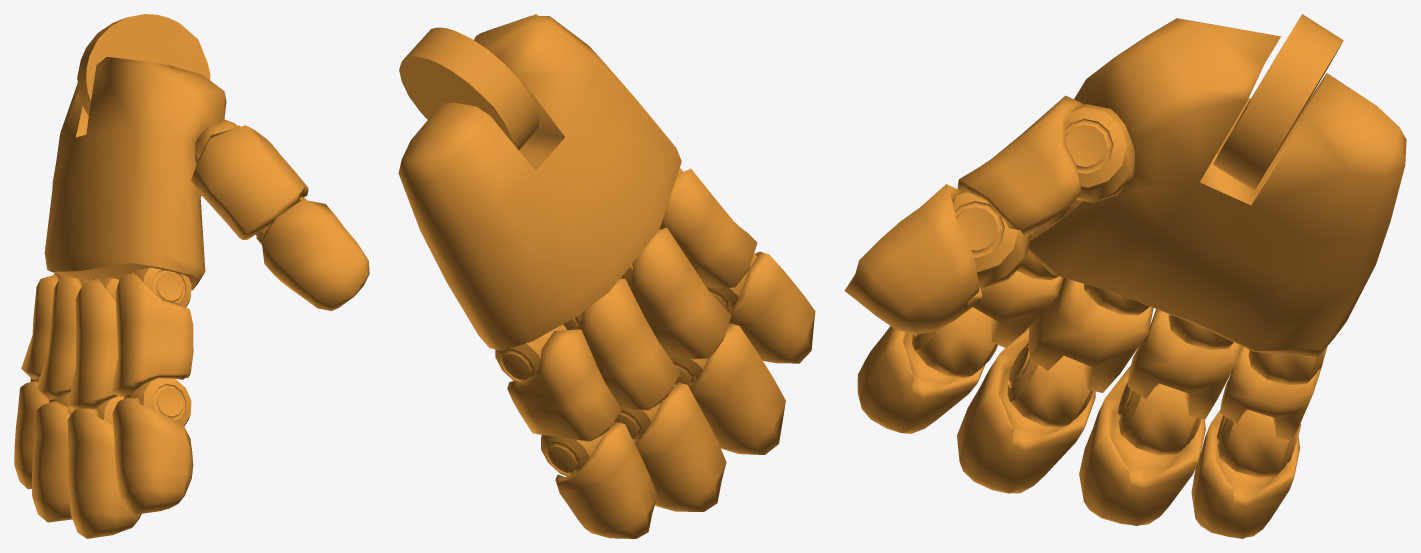
File: handR.fbx
3 views of the same model, side by side, from view 1: azimuth 30°, elevation 25°; view 2: azimuth 150°, elevation 25°; view 3: azimuth 270°, elevation 25° (orthographic). The views are drawn at different scales.
Parts seen in each view (by area): view 1: matte_0.008, matte_22.001, matte_11.001, matte_21.001, matte_12.001, matte_32.001, matte_31.001, matte_42.001, matte_41.001, matte_52.001, matte_51.001; view 2: matte_0.008, matte_51.001, matte_52.001, matte_32.001, matte_42.001, matte_31.001, matte_41.001, matte_22.001, matte_21.001; view 3: matte_0.008, matte_12.001, matte_11.001, matte_32.001, matte_42.001, matte_22.001, matte_52.001, matte_31.001, matte_41.001, matte_51.001, matte_21.001.
Boxes of the visible parts, box(x1,y1,x2,y2) form: matte_0.008: box(44, 14, 226, 290); matte_22.001: box(112, 378, 193, 514); matte_11.001: box(191, 119, 308, 239); matte_21.001: box(111, 267, 193, 396); matte_12.001: box(255, 197, 369, 310); matte_32.001: box(67, 396, 141, 538); matte_31.001: box(68, 278, 119, 409); matte_42.001: box(32, 393, 74, 522); matte_41.001: box(36, 276, 88, 400); matte_52.001: box(14, 378, 48, 489); matte_51.001: box(21, 273, 63, 379); matte_0.008: box(398, 15, 681, 350); matte_51.001: box(495, 324, 621, 441); matte_52.001: box(541, 422, 657, 538); matte_32.001: box(669, 323, 785, 454); matte_42.001: box(614, 382, 726, 511); matte_31.001: box(620, 227, 731, 359); matte_41.001: box(563, 278, 680, 411); matte_22.001: box(706, 251, 815, 363); matte_21.001: box(659, 168, 757, 288); matte_0.008: box(1028, 14, 1406, 356); matte_12.001: box(844, 184, 1031, 334); matte_11.001: box(957, 95, 1134, 240); matte_32.001: box(957, 327, 1095, 493); matte_42.001: box(1079, 365, 1205, 526); matte_22.001: box(857, 307, 997, 433); matte_52.001: box(1191, 410, 1300, 538); matte_31.001: box(1028, 278, 1153, 392); matte_41.001: box(1127, 309, 1241, 419); matte_51.001: box(1220, 346, 1327, 440); matte_21.001: box(957, 251, 1063, 347).
Size of the model in its own units: 466 by 661 by 756.
